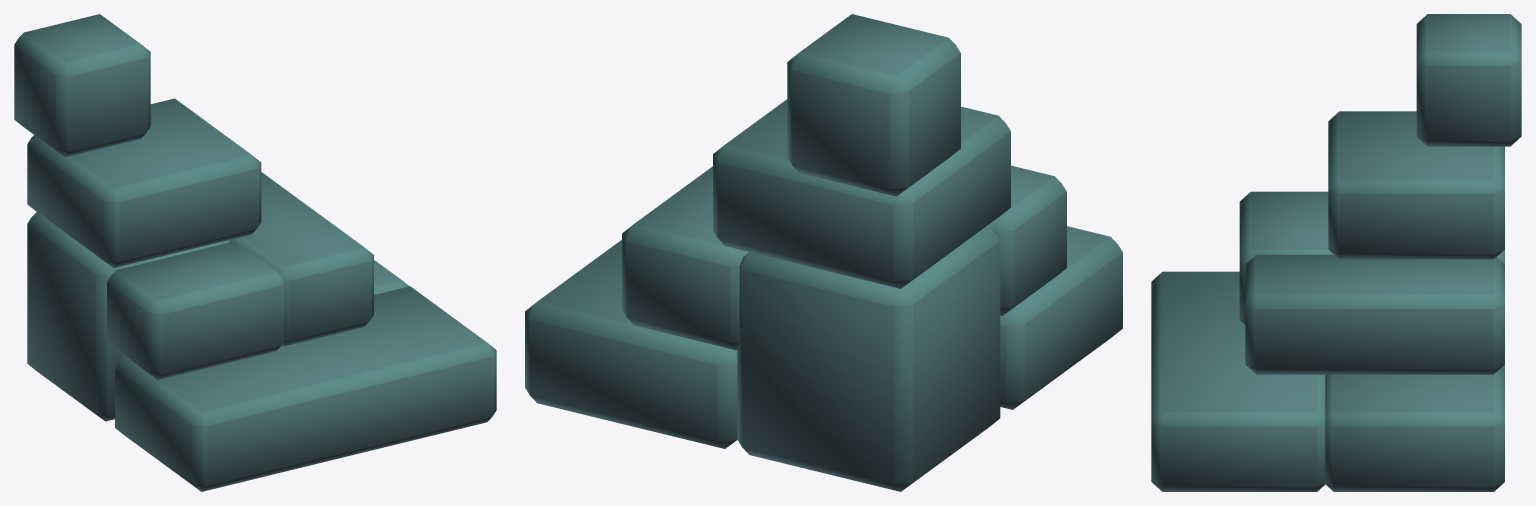
File: stair_corner_convex_hue_1.fbx
The picture shows the model from 3 angles, left to right: view 1: azimuth 30°, elevation 25°; view 2: azimuth 150°, elevation 25°; view 3: azimuth 270°, elevation 25°; orthographic projection. The views are drawn at different scales.
Visible parts, largest first — view 1: stair_corner_convex_hue_1; view 2: stair_corner_convex_hue_1; view 3: stair_corner_convex_hue_1.
Boxes of the visible parts, box(x1,y1,x2,y2) form: stair_corner_convex_hue_1: box(14, 14, 496, 491); stair_corner_convex_hue_1: box(525, 14, 1122, 491); stair_corner_convex_hue_1: box(1151, 14, 1521, 491).
Size of the model in its own units: 102 by 105 by 105.
